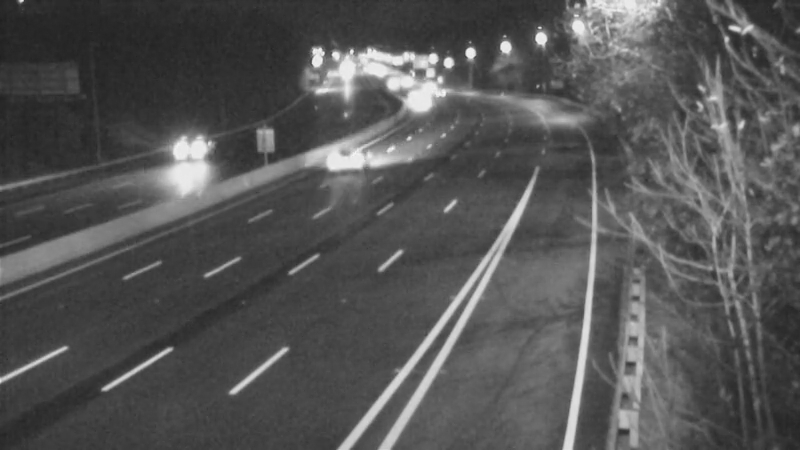vehicle: (309, 111, 389, 191), (394, 79, 444, 129), (166, 124, 216, 174)
